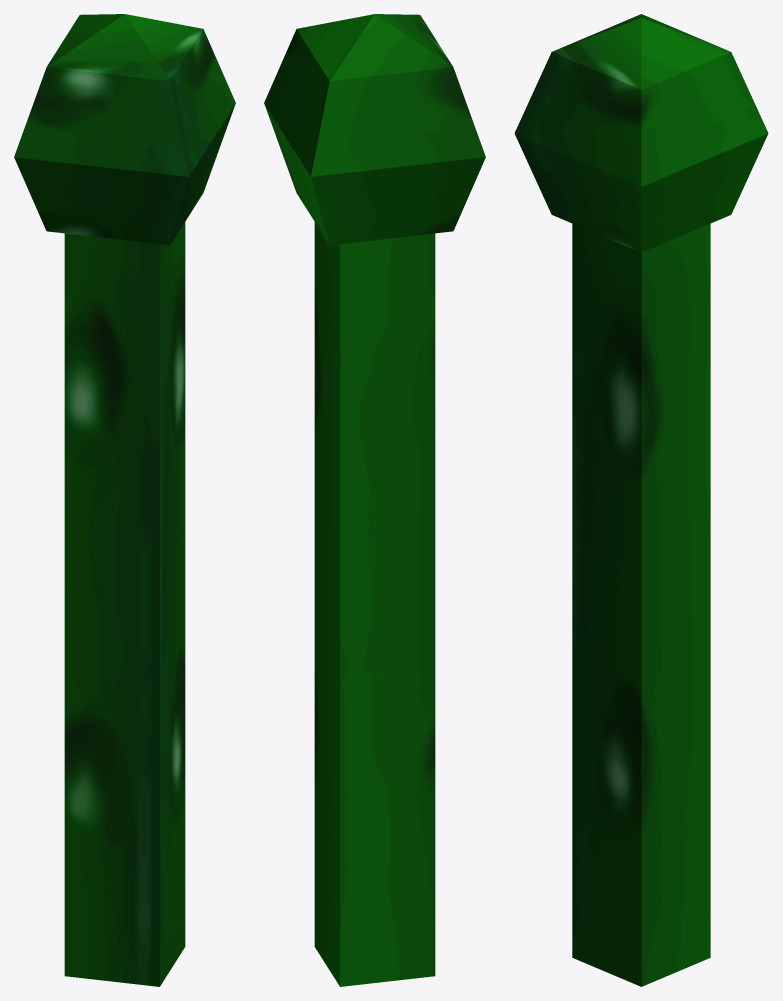
The model's file is GeländerSteher [GrünesMetall]_2602.glb.
3 views of the same model, side by side, from view 1: azimuth 30°, elevation 25°; view 2: azimuth 150°, elevation 25°; view 3: azimuth 270°, elevation 25° (orthographic).
Visible parts, largest first — view 1: pCylinderShape1, pSphereShape1; view 2: pCylinderShape1, pSphereShape1; view 3: pCylinderShape1, pSphereShape1.
Boxes of the visible parts, box(x1,y1,x2,y2) form: pCylinderShape1: box(64, 222, 185, 986); pSphereShape1: box(14, 14, 235, 245); pCylinderShape1: box(314, 222, 435, 986); pSphereShape1: box(264, 14, 485, 245); pCylinderShape1: box(572, 223, 710, 986); pSphereShape1: box(514, 14, 768, 252).
Size of the model in its own units: 0.0446 by 0.1821 by 0.0446.
Materials: 2 (2 with a texture image).
